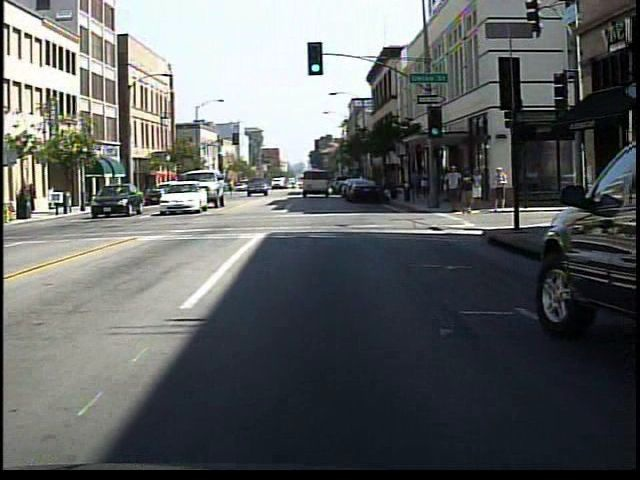person: (442, 163, 462, 214), (457, 166, 477, 215), (490, 165, 509, 215), (470, 165, 487, 215), (415, 164, 433, 207), (223, 174, 240, 202)
